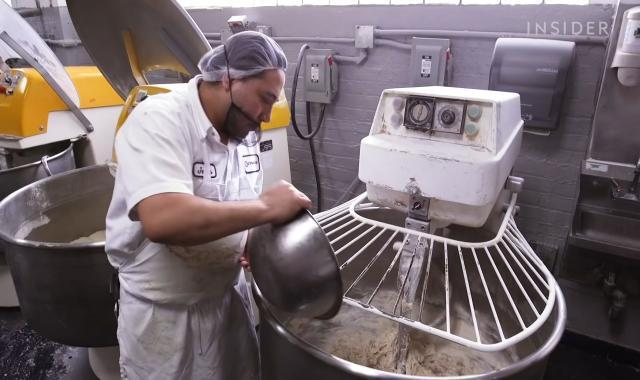Apron: (112, 89, 279, 380)
Hairnet: (179, 23, 292, 85)
Mask: (203, 73, 275, 154)
No_Glove: (254, 174, 318, 228), (229, 240, 272, 279)
